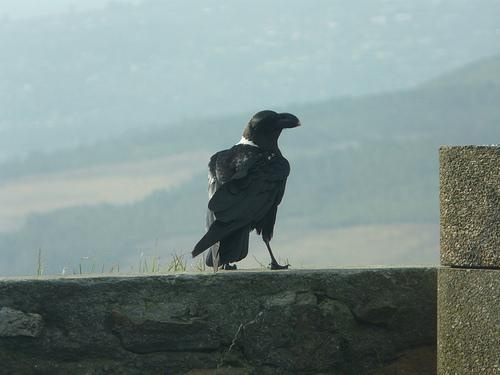bird: (187, 106, 307, 273)
